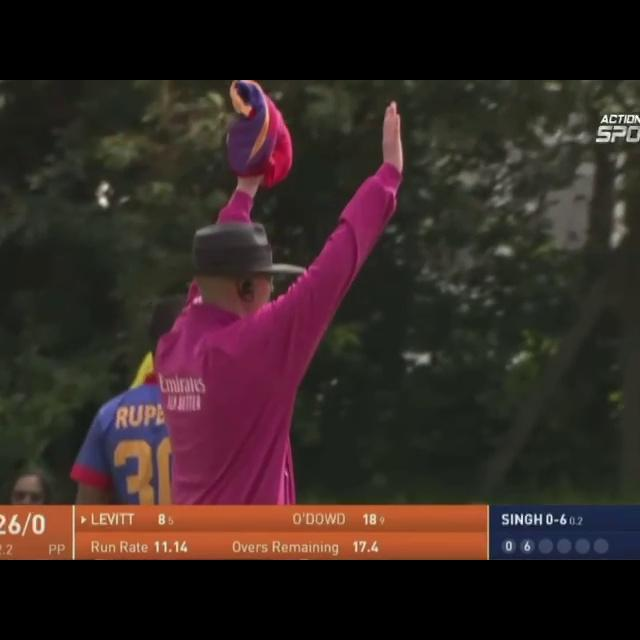umpire: (124, 85, 447, 493)
